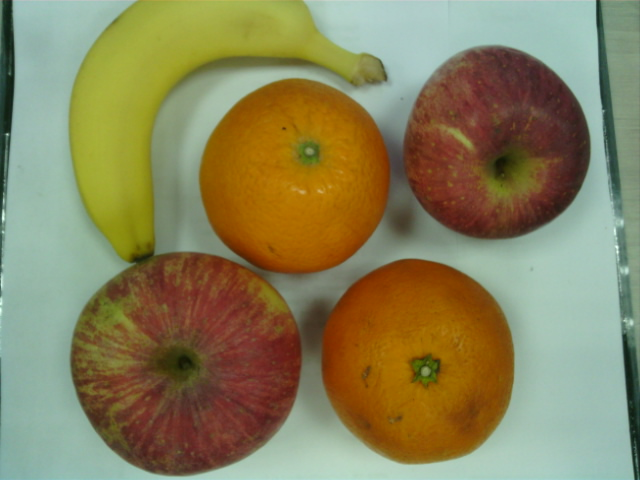normal_apple: (70, 252, 302, 475), (404, 45, 593, 240)
normal_banana: (70, 2, 389, 261)
normal_orange: (324, 258, 515, 465), (200, 79, 387, 273)
